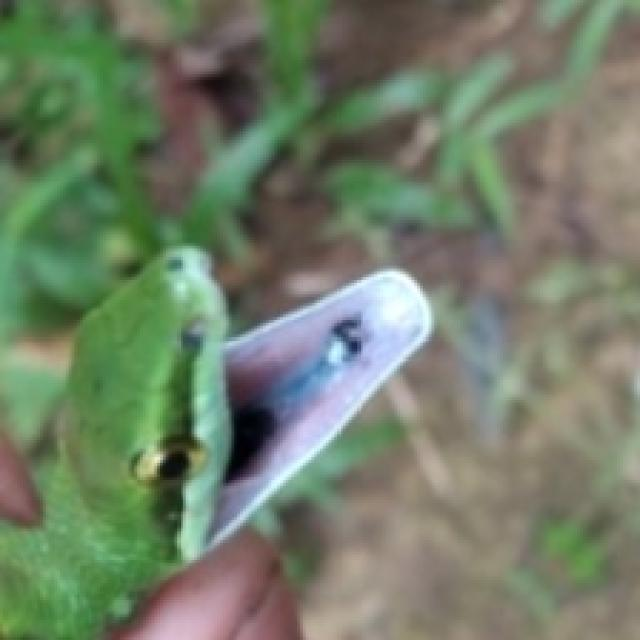red-tailed green ratsnake: (0, 246, 429, 637), (126, 246, 229, 557)
